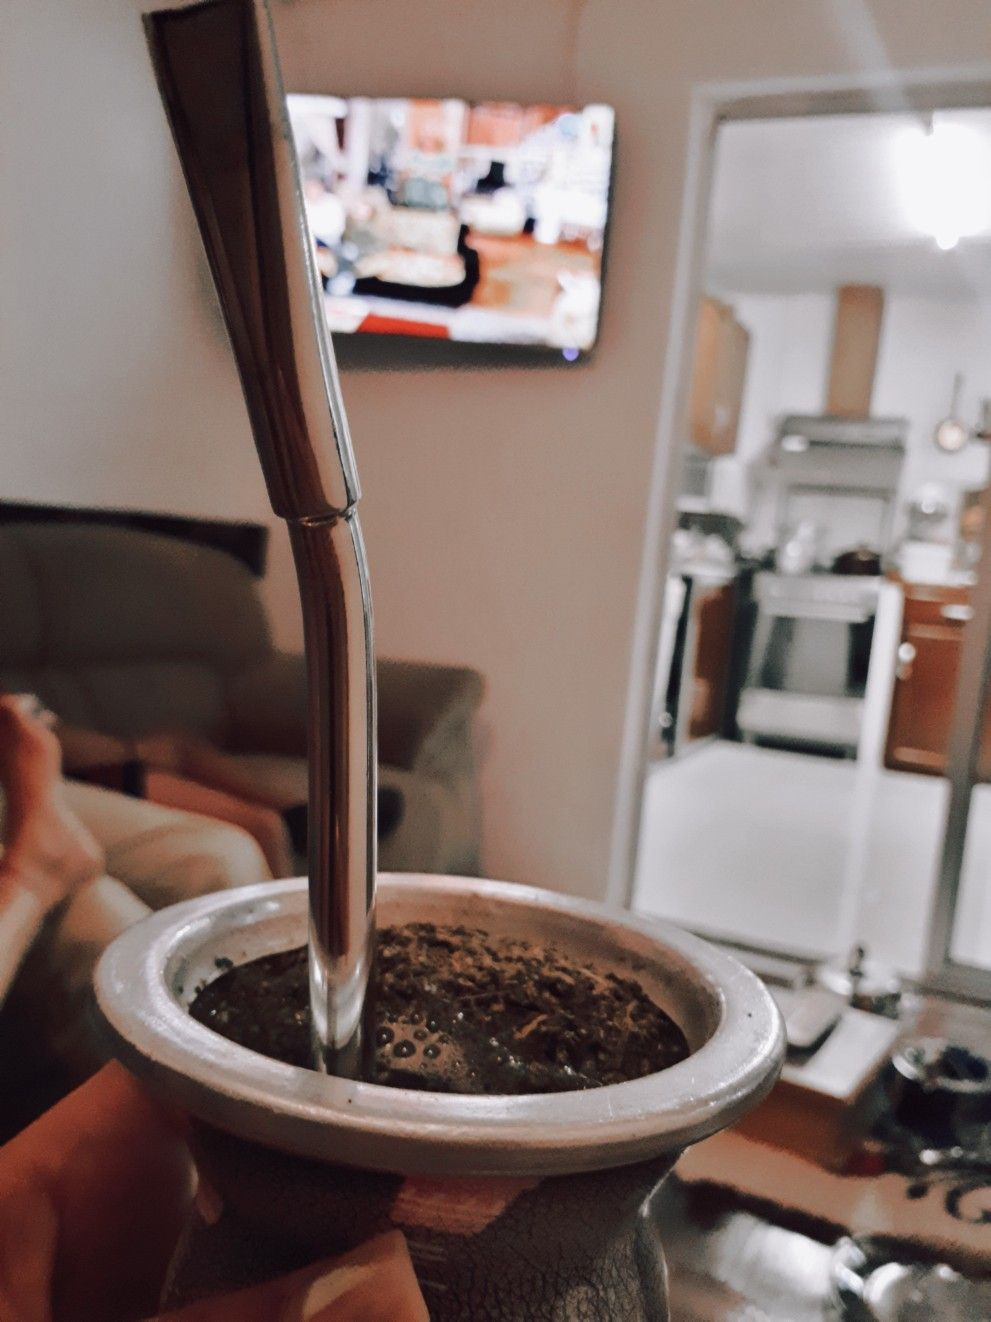mate: (90, 864, 785, 1314)
